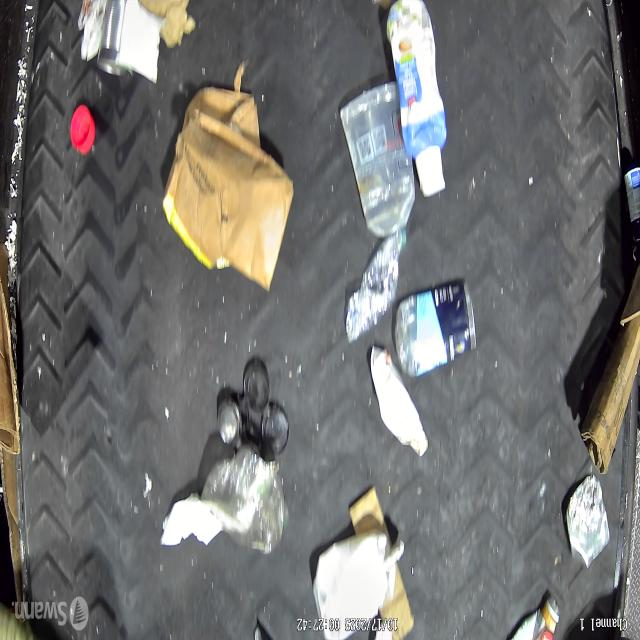can: (566, 475, 610, 568), (96, 0, 134, 78)
plastic_bottle: (342, 226, 404, 348)
